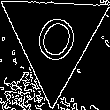O_SW: (26, 5, 82, 71)
